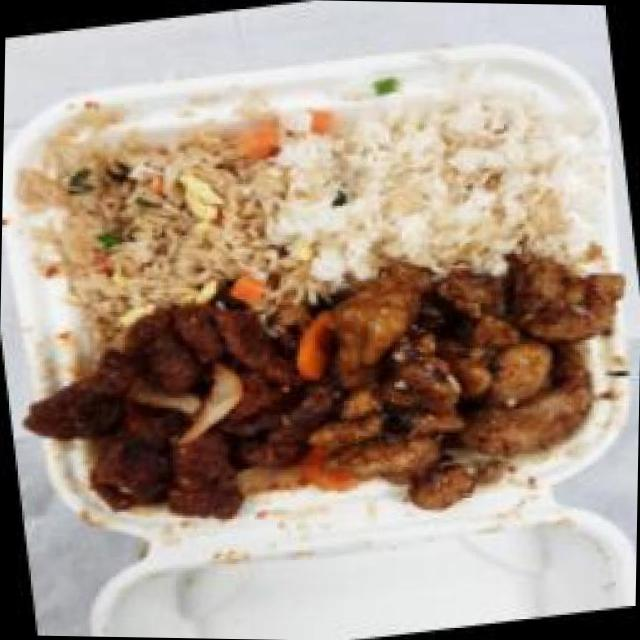Beijing Beef: (1, 277, 344, 546)
Fried Rice: (25, 92, 324, 335)
The Original Orange Chicken: (313, 237, 640, 526)
White Steamed Rice: (293, 79, 584, 287)
